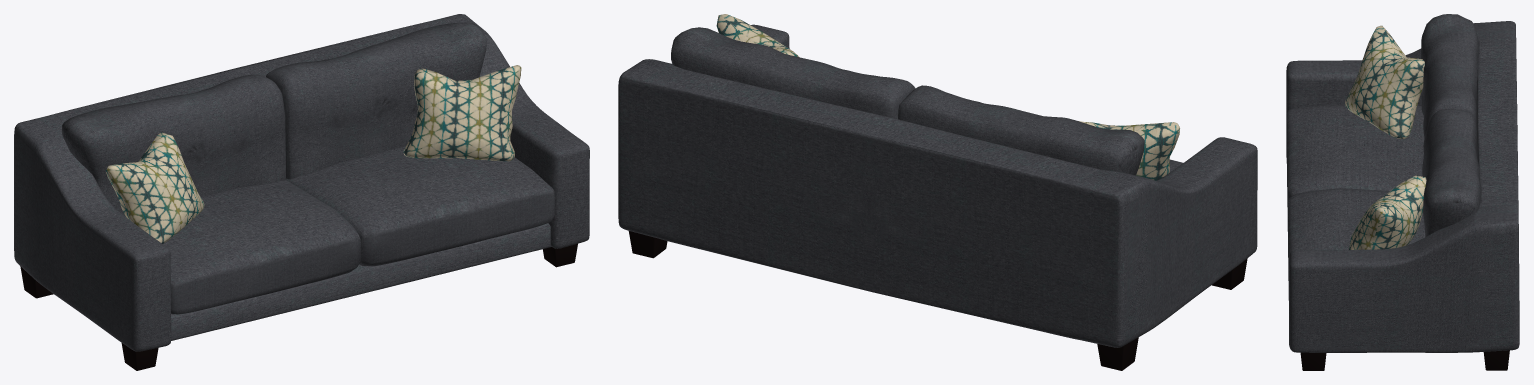
The model's file is living1.glb.
3 renders of one model, left to right at view 1: azimuth 30°, elevation 25°; view 2: azimuth 150°, elevation 25°; view 3: azimuth 270°, elevation 25°, orthographic. The views are drawn at different scales.
Visible parts, largest first — view 1: Object_2; view 2: Object_2; view 3: Object_2.
Boxes of the visible parts, x1=… form: Object_2: x1=14, y1=14, x2=589, y2=370; Object_2: x1=618, y1=14, x2=1257, y2=370; Object_2: x1=1286, y1=14, x2=1519, y2=370.
Bounding box in the file's own units: 2.01 × 0.7687 × 0.9622.
Materials: 1 (1 with a texture image).
